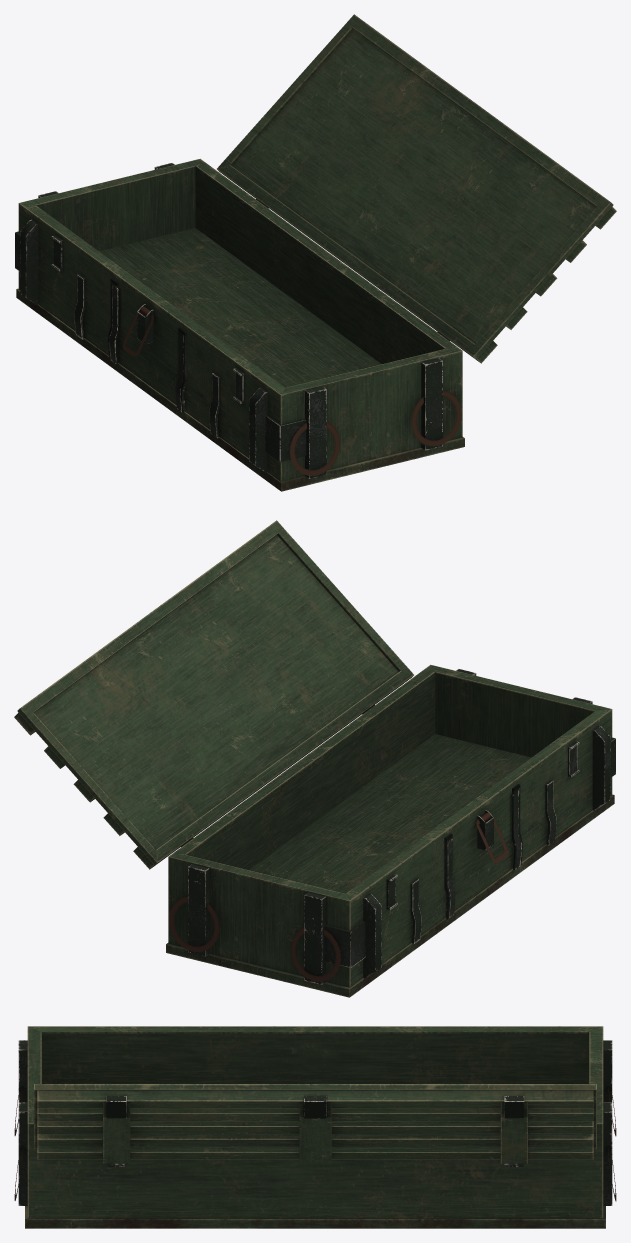
File: Bg_WeaponBox_02.fbx
The picture shows the model from 3 angles, top to bottom: view 1: azimuth 30°, elevation 25°; view 2: azimuth 150°, elevation 25°; view 3: azimuth 270°, elevation 25°; orthographic projection. The views are drawn at different scales.
Visible parts, largest first — view 1: Bg_WeaponBox_02; view 2: Bg_WeaponBox_02; view 3: Bg_WeaponBox_02.
Boxes of the visible parts, x1,y1,x2,y2 form: Bg_WeaponBox_02: (15, 14, 616, 491); Bg_WeaponBox_02: (14, 520, 615, 997); Bg_WeaponBox_02: (14, 1026, 616, 1228).
Size of the model in its own units: 86.53 by 46.59 by 113.
